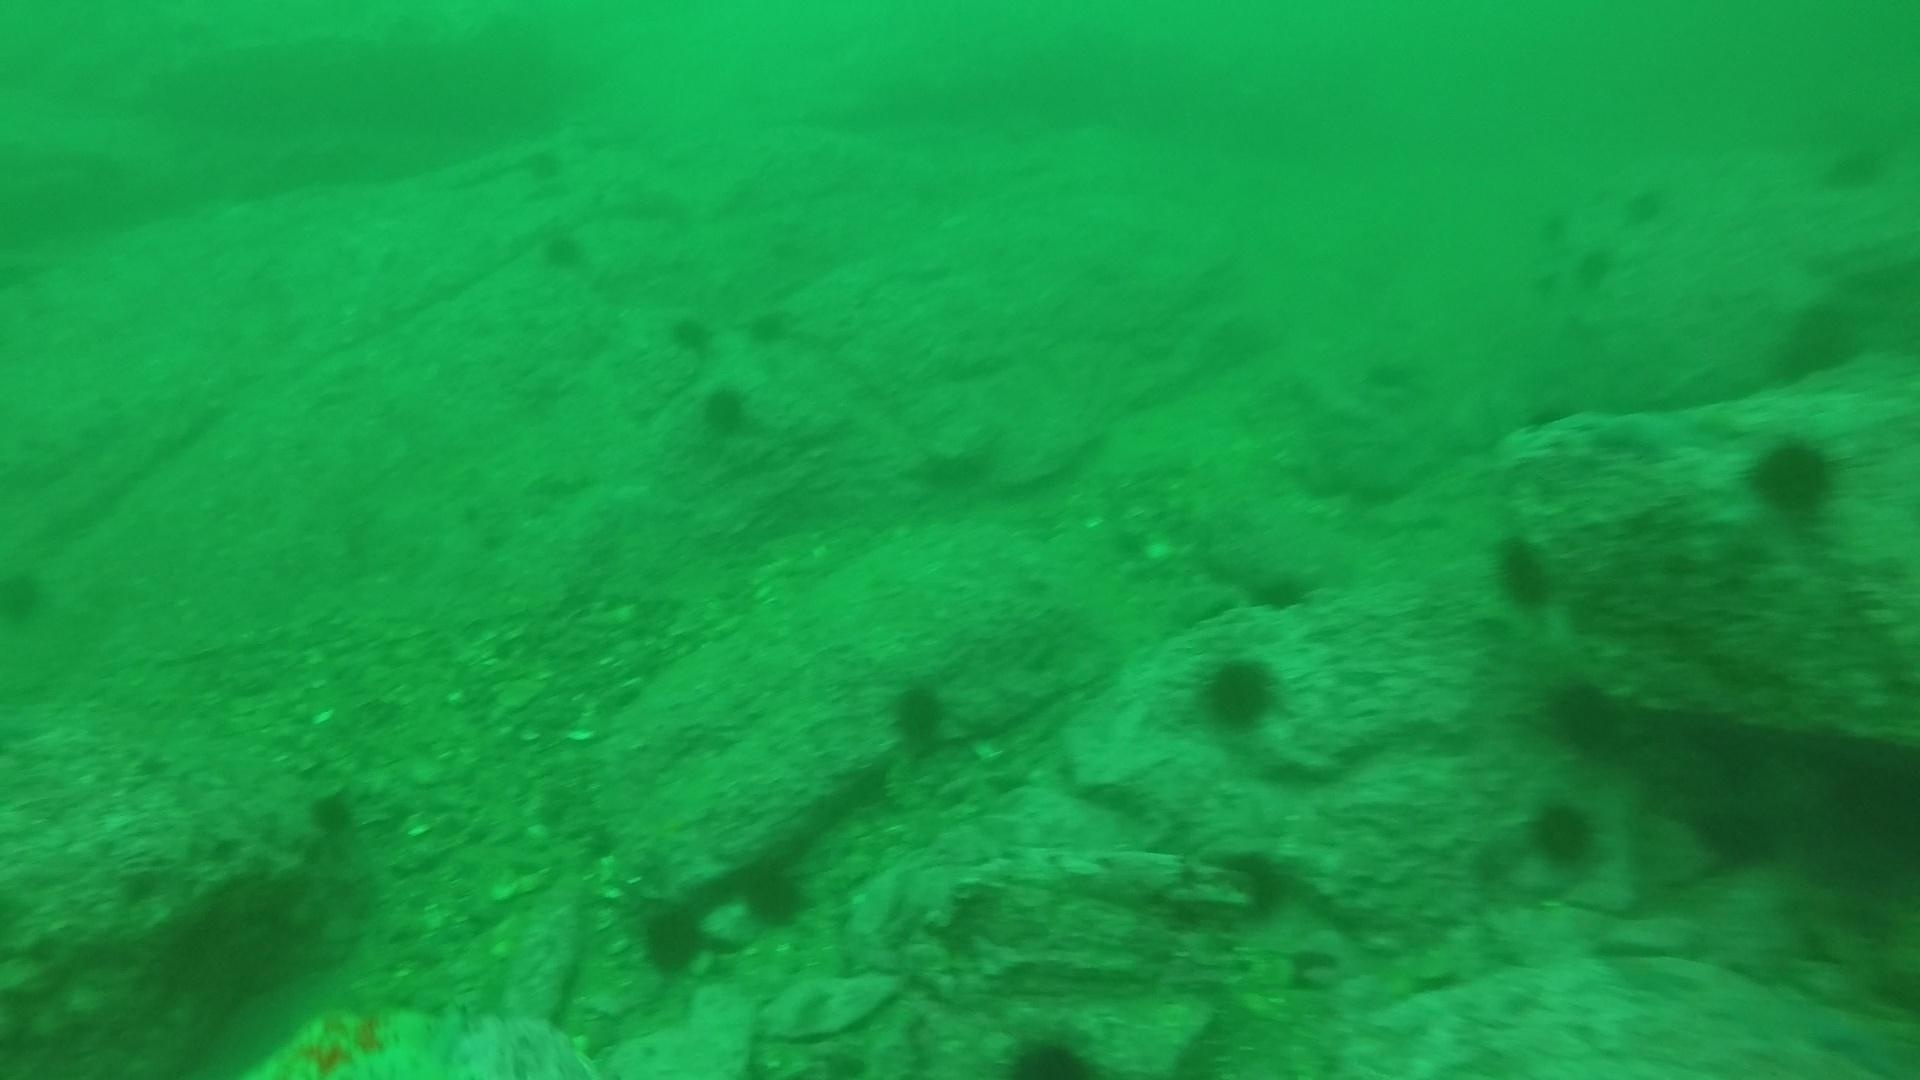echinus: (1739, 429, 1846, 525), (1768, 294, 1867, 388), (1189, 647, 1287, 737), (1538, 671, 1630, 757), (629, 893, 716, 981), (1519, 791, 1607, 877), (729, 849, 815, 932), (1484, 527, 1563, 615), (880, 673, 957, 756), (1000, 1021, 1102, 1079), (1816, 133, 1891, 196), (694, 378, 758, 440), (1, 558, 51, 633), (1247, 563, 1319, 615), (510, 132, 568, 189), (533, 220, 592, 276), (738, 295, 798, 351), (663, 307, 720, 359), (1534, 208, 1585, 264), (1614, 183, 1665, 237), (1569, 240, 1619, 295)
starfish: (1803, 1000, 1917, 1077)
